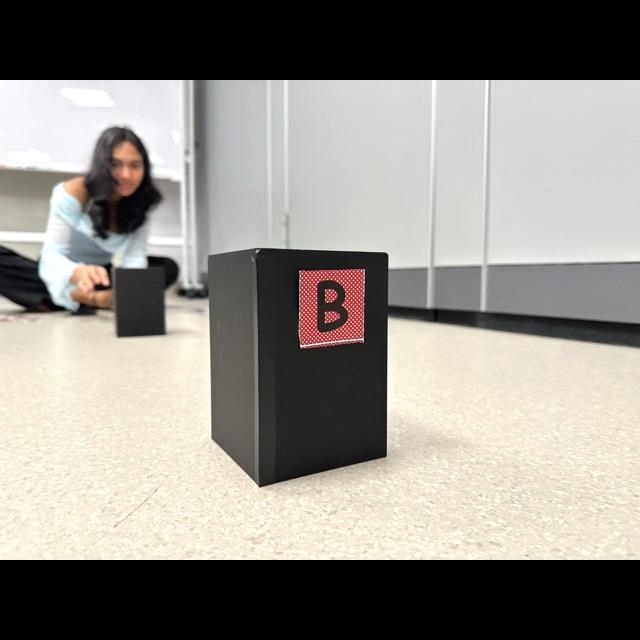B: (317, 279, 348, 333)
